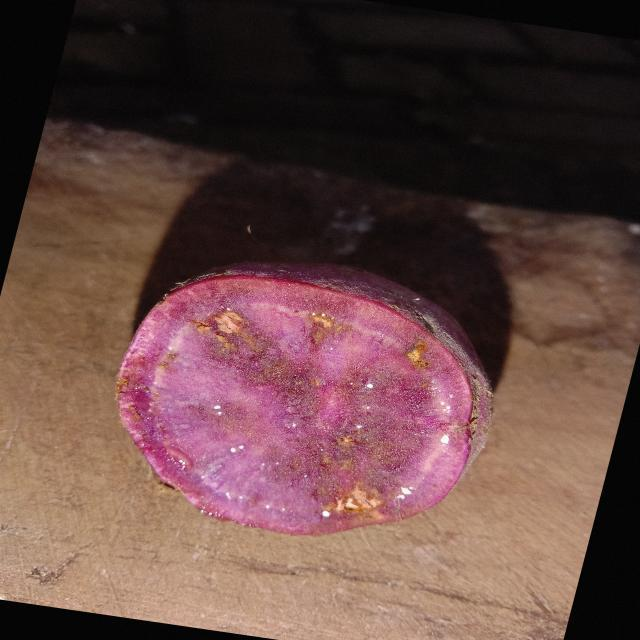Sick Sweet Potato_Tuber Rot: (118, 276, 472, 535)
